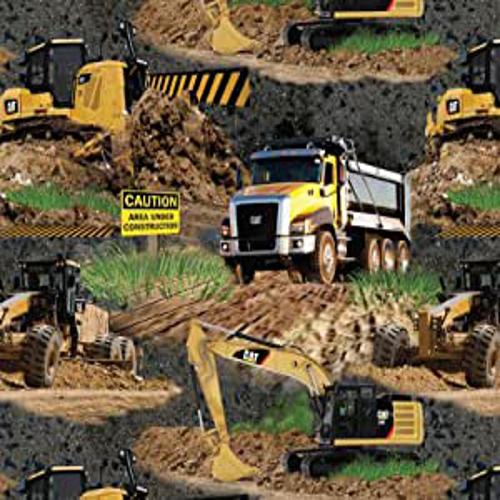con_eq: (183, 320, 431, 475), (1, 260, 140, 386), (1, 40, 134, 147), (387, 260, 497, 384), (201, 1, 425, 55), (429, 41, 500, 152)
